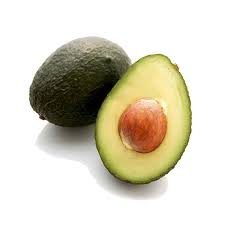avocado: (95, 54, 192, 184)
